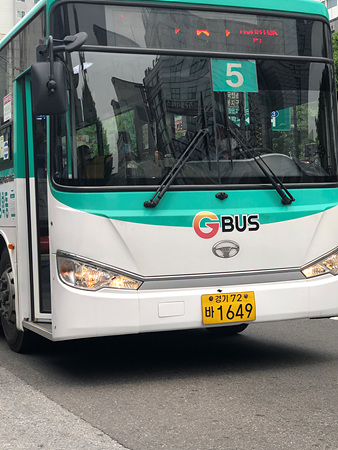bnum: (215, 58, 253, 90)
